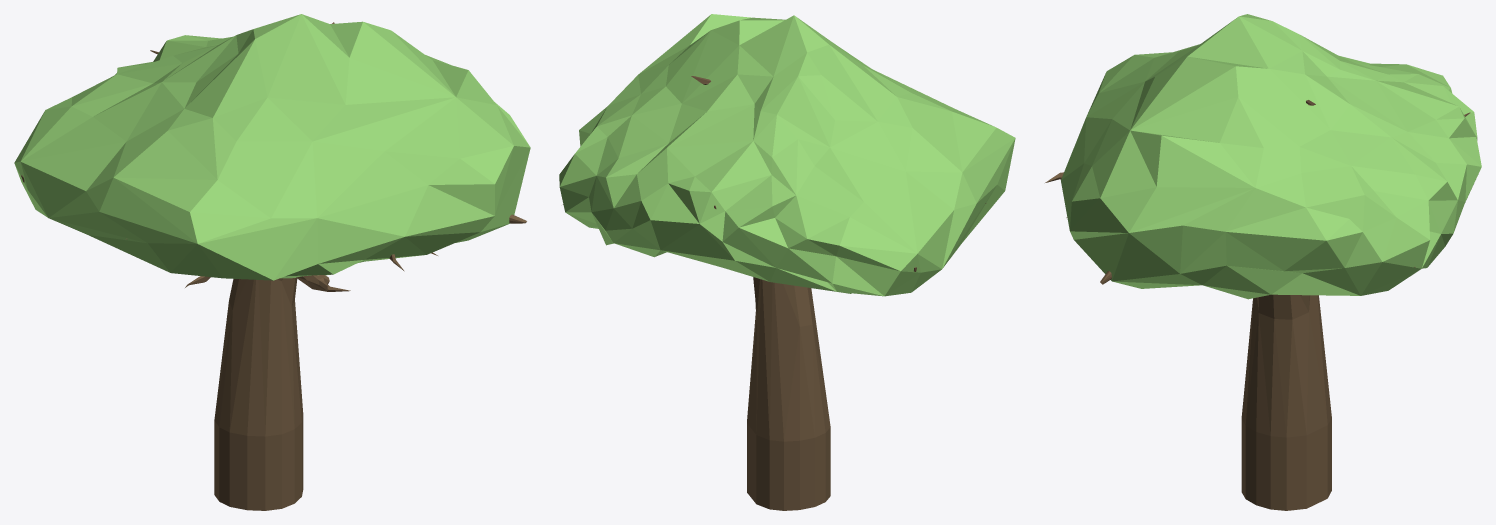
File: Tree2.1.LOD.fbx
3 renders of one model, left to right at view 1: azimuth 30°, elevation 25°; view 2: azimuth 150°, elevation 25°; view 3: azimuth 270°, elevation 25°, orthographic. The views are drawn at different scales.
Visible parts, largest first — view 1: Tree2.1_LOD0; view 2: Tree2.1_LOD0; view 3: Tree2.1_LOD0.
Part boxes in pixels (box(x1,y1,x2,y2)): Tree2.1_LOD0: box(14, 14, 530, 510); Tree2.1_LOD0: box(559, 14, 1015, 510); Tree2.1_LOD0: box(1045, 14, 1481, 510).
Size of what is drawn, in the model's own units: 989 by 1181 by 967.
Materials: 1 (1 with a texture image).
